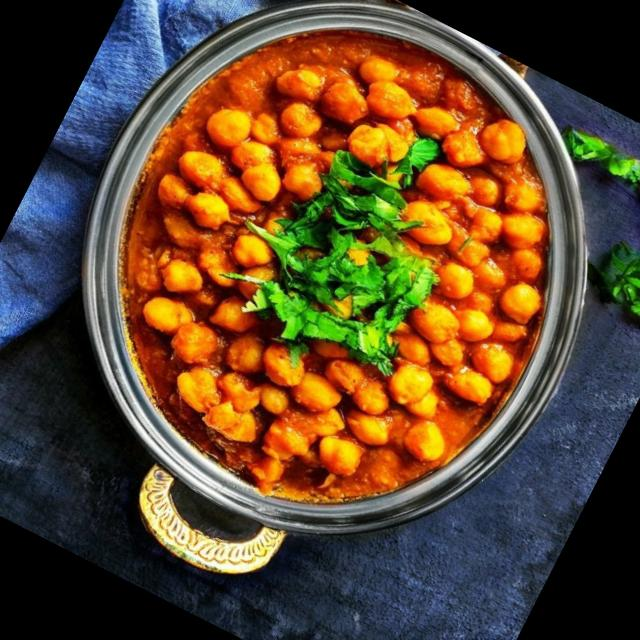Chole: (37, 0, 632, 571)
